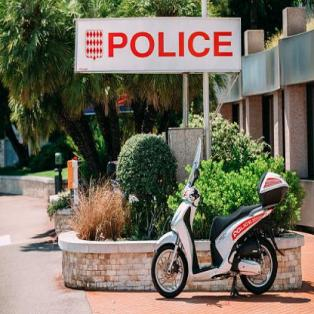Motocicleta: (148, 155, 290, 302)
